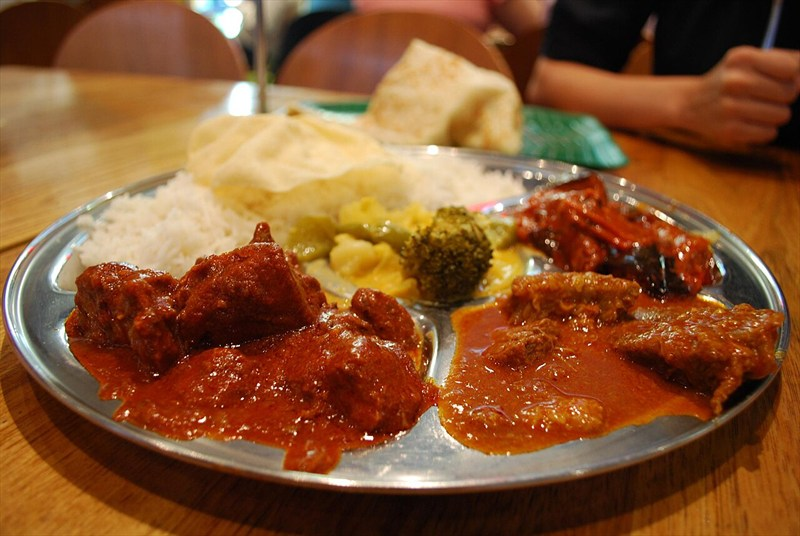Rendang: (37, 53, 678, 492)
